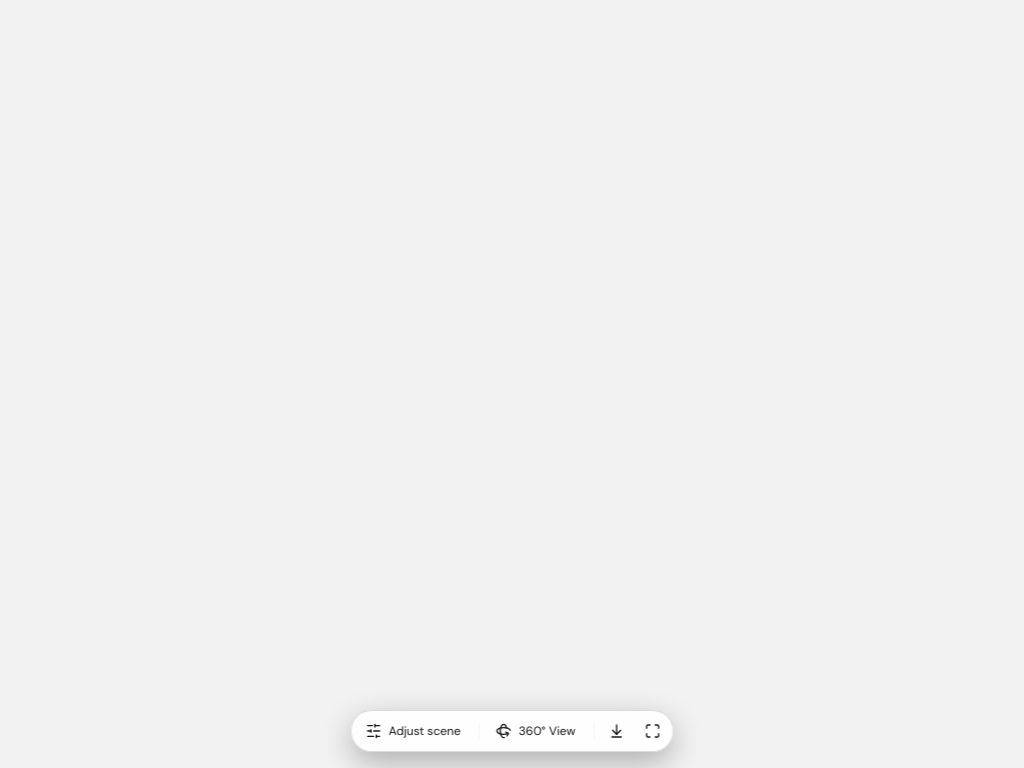
Test: the stage toolbar › opens the setting and time of day, and closes on Escape with the focus back
Click the button "Adjust scene": (414, 731) [355, 714, 474, 748]
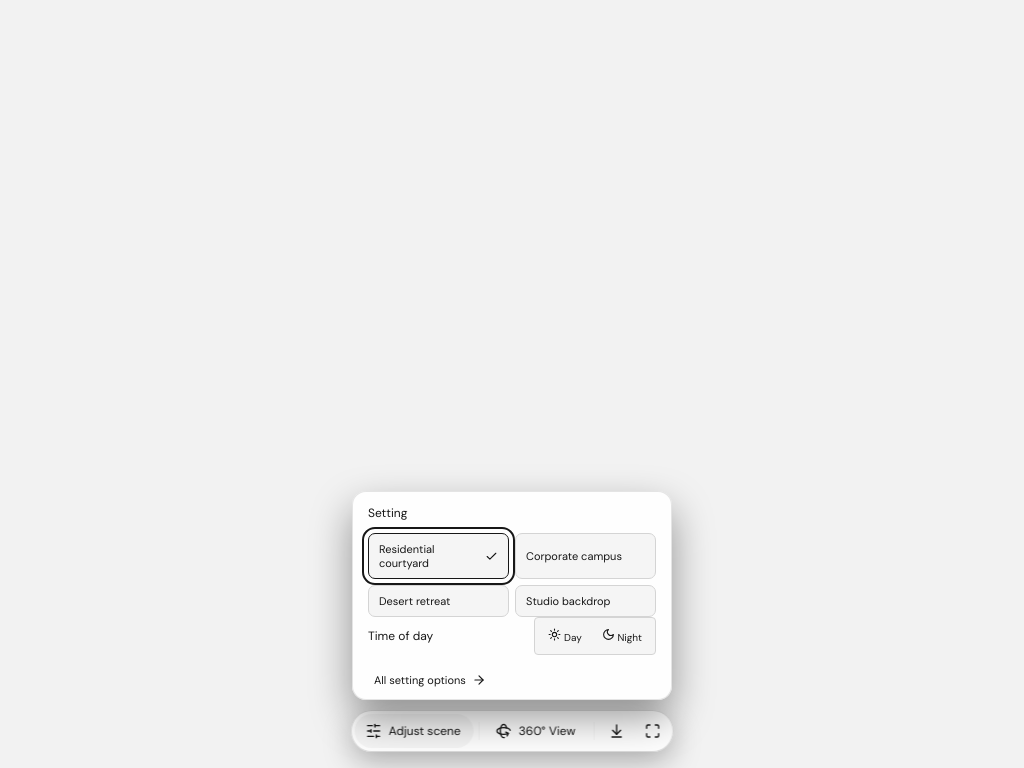
Result: the dialog named "Adjust scene" is shown at [352, 491, 672, 700]
Result: the button "Adjust scene" is expanded at [355, 714, 474, 748]
Result: the button "Residential courtyard" is shown at [368, 533, 509, 579]
Click the button "Desert retreat": (438, 601) [368, 585, 509, 617]
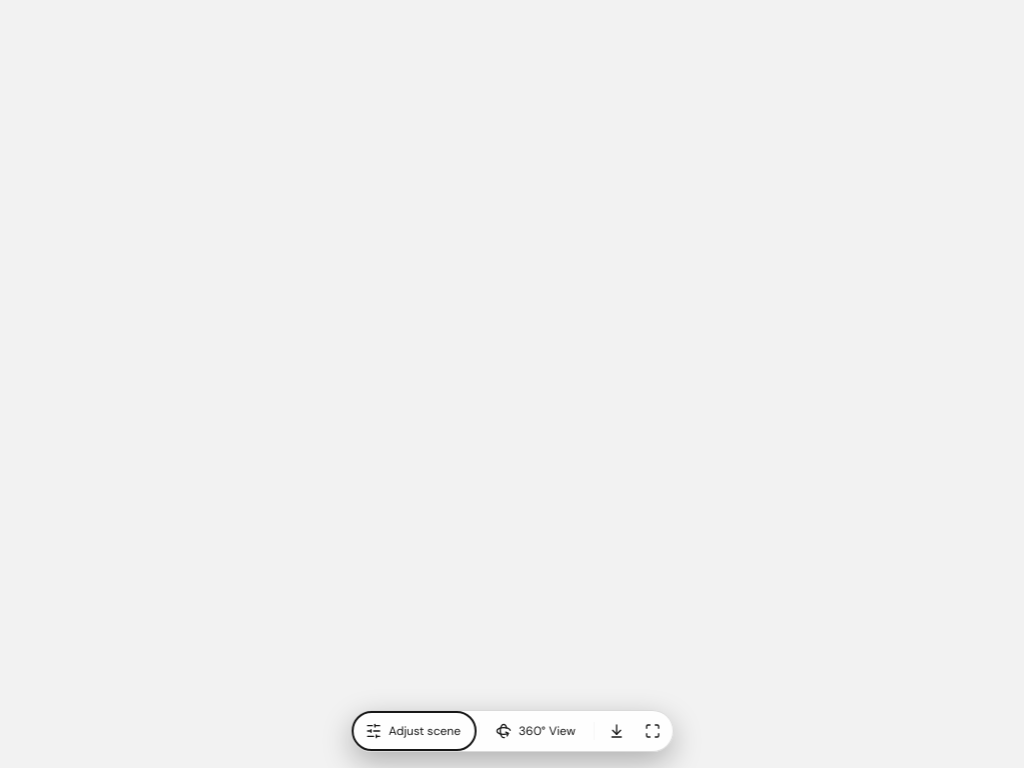
Result: the dialog is gone
